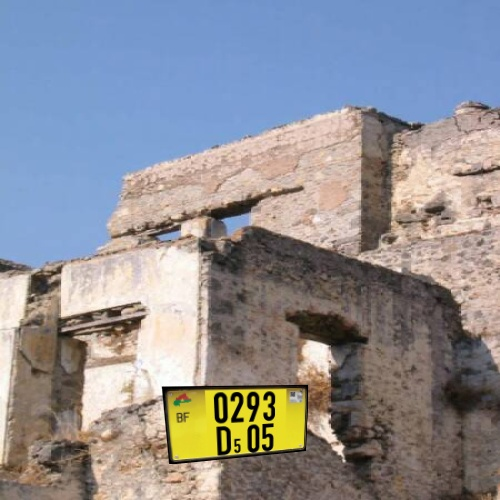plate: (154, 364, 330, 476)
